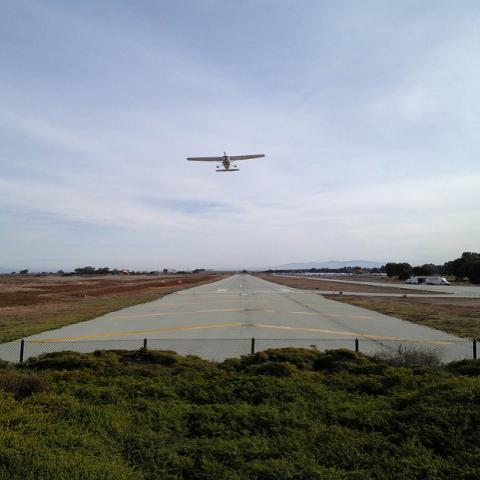truck: (426, 276, 451, 286), (405, 276, 426, 284)
